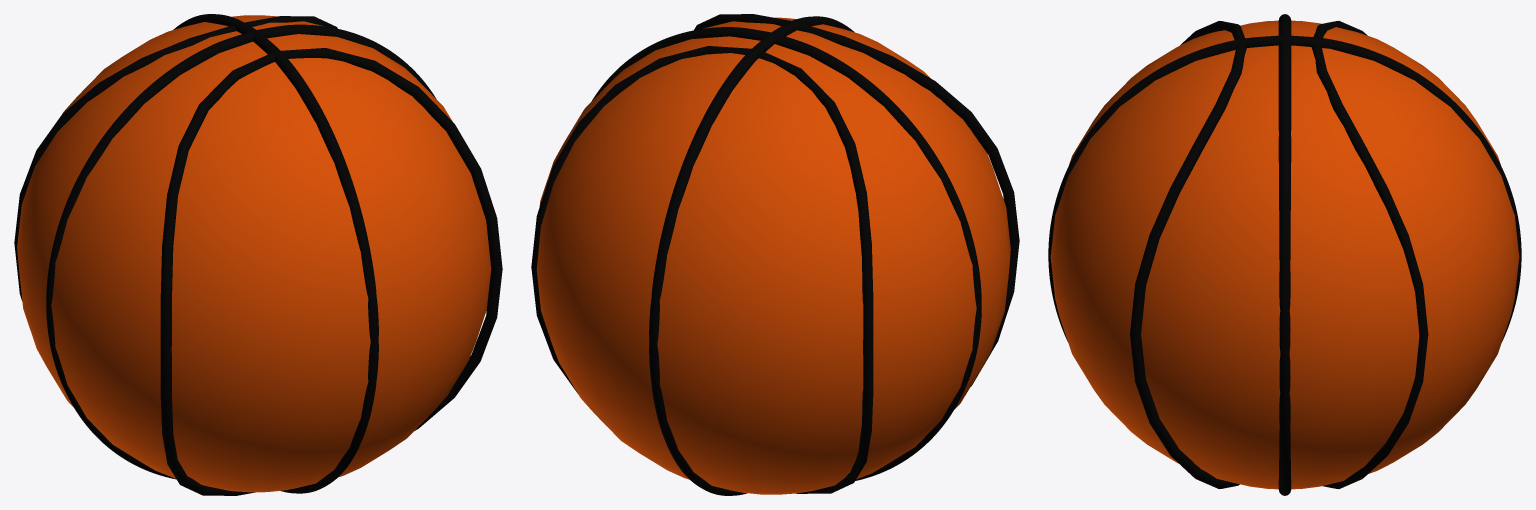
The model's file is Basketball(1).fbx.
3 renders of one model, left to right at view 1: azimuth 30°, elevation 25°; view 2: azimuth 150°, elevation 25°; view 3: azimuth 270°, elevation 25°, orthographic.
Visible parts, largest first — view 1: Shape002; view 2: Shape002; view 3: Shape002.
Part boxes in pixels (<box>): Shape002: <box>14,14,502,495</box>; Shape002: <box>531,14,1019,495</box>; Shape002: <box>1048,14,1521,495</box>.
Bounding box in the file's own units: 37.21 × 38 × 37.21.
